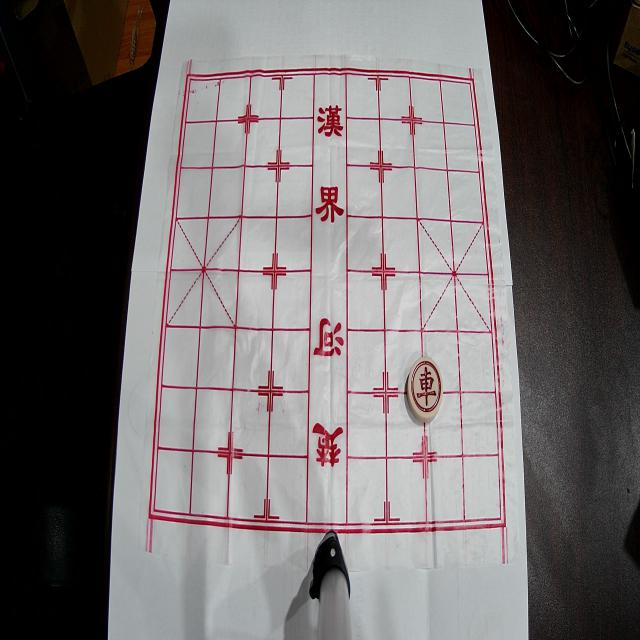red-chariot: (407, 357, 443, 422)
